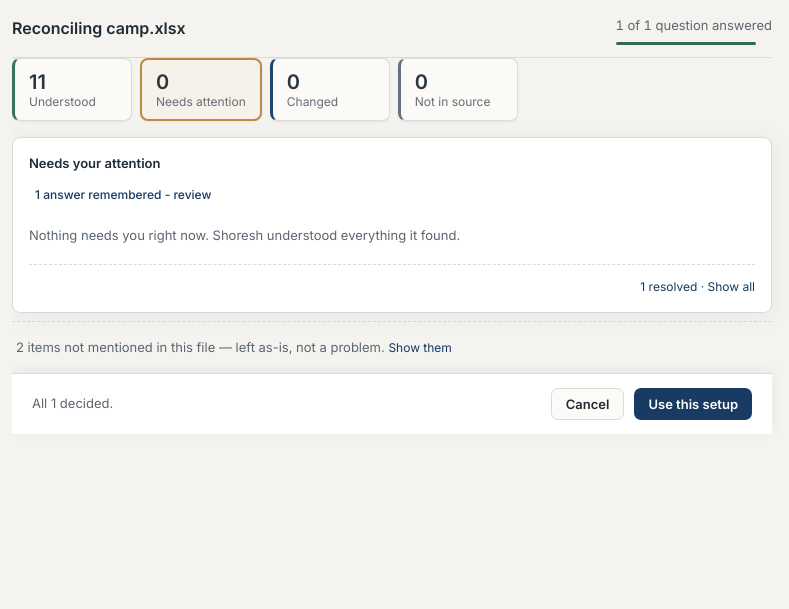
Change and Forget on a remembered card › Change makes it a question again and it is not re-seeded by the next dry run
Click the button "1 answer remembered - review".
click(123, 194)  # box [29,183,217,206]
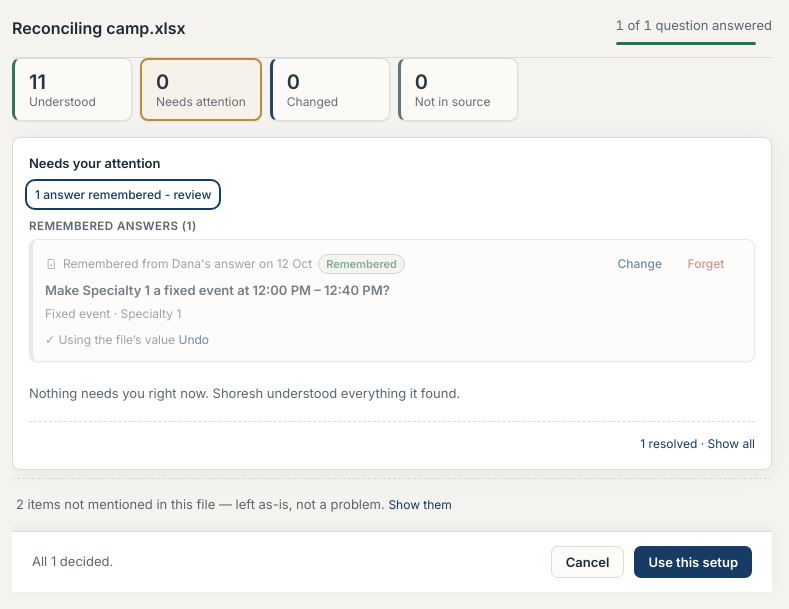
Click the button "Change".
click(640, 264)  # box [612,252,668,275]
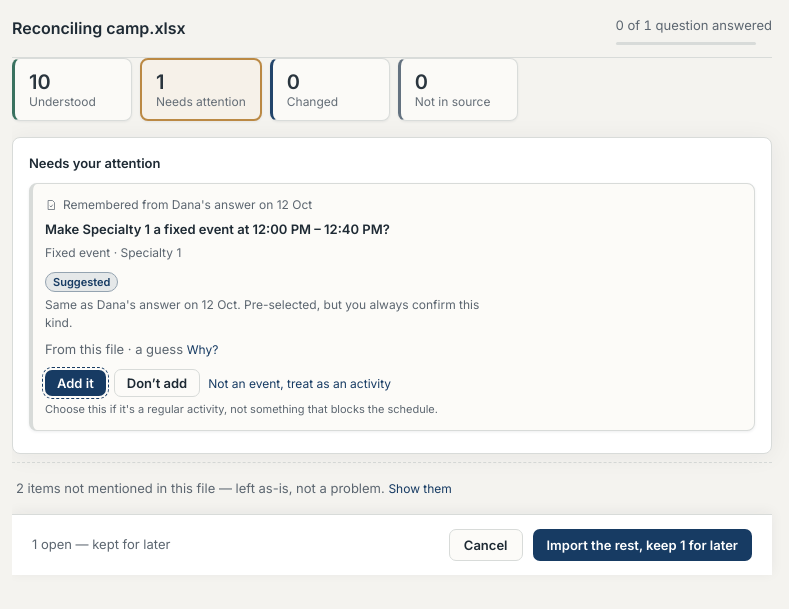
Expected: the text "0 of 1 question answered" is shown, [616,16,772,36]
